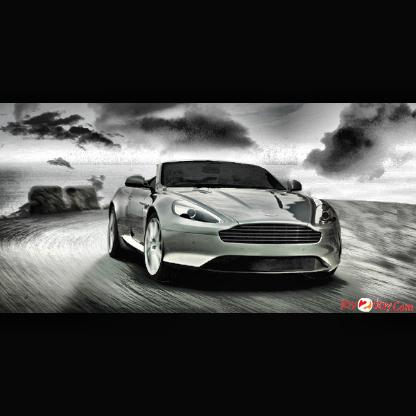Aston Martin Virage Convertible 2012: (110, 160, 342, 281)
